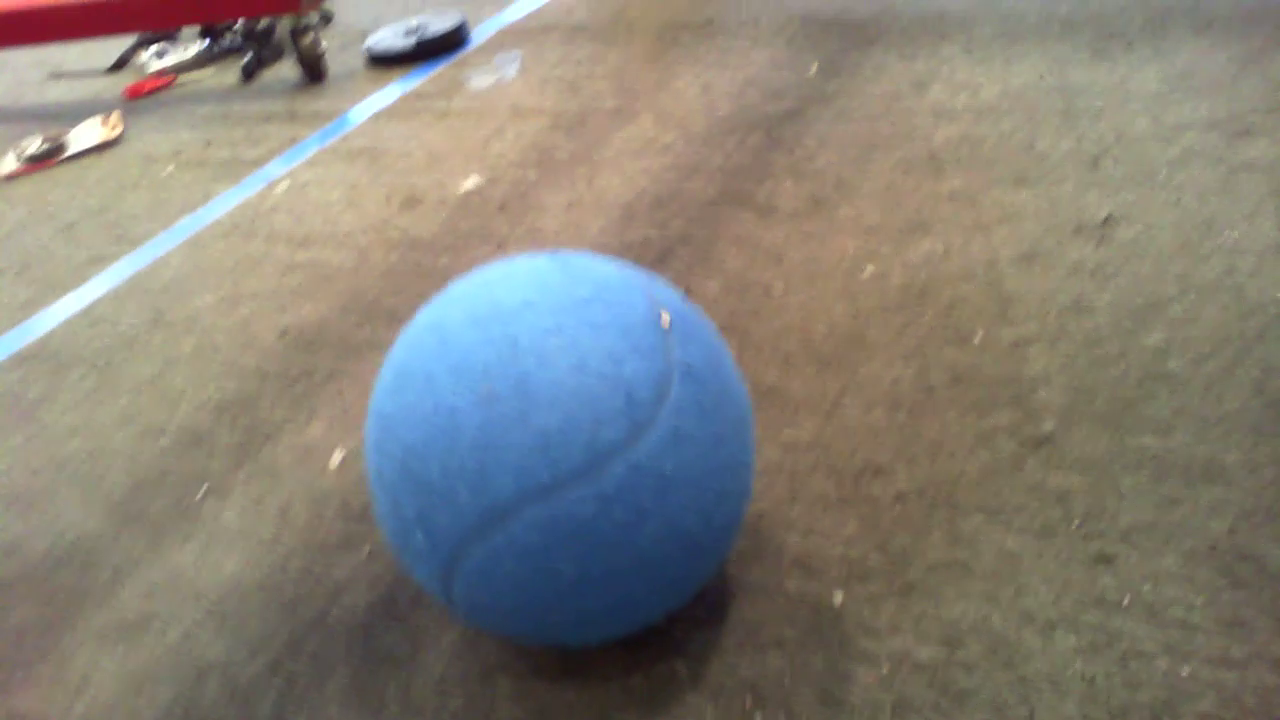blue_cargo: (370, 237, 766, 653)
